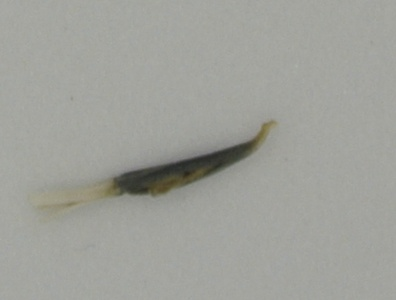เมล็ดงอกแตก: (32, 117, 279, 227)
